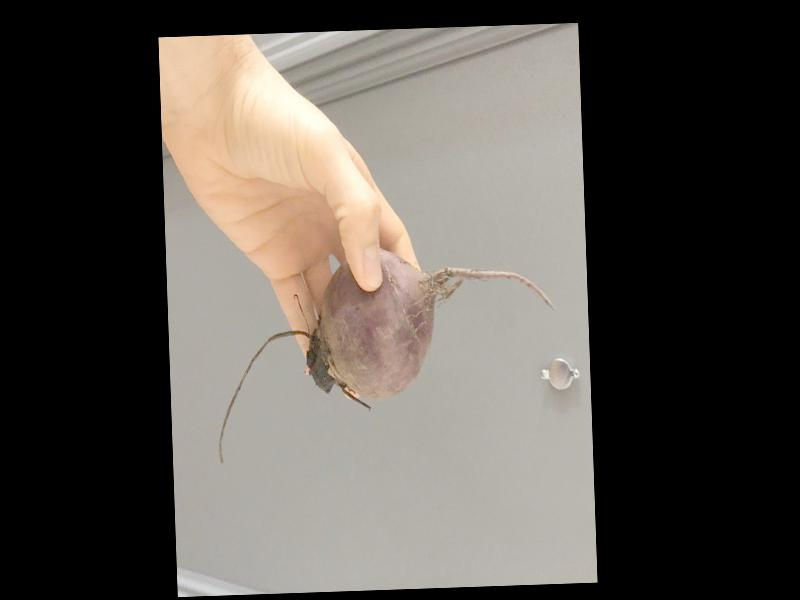Beet: (212, 243, 558, 465)
